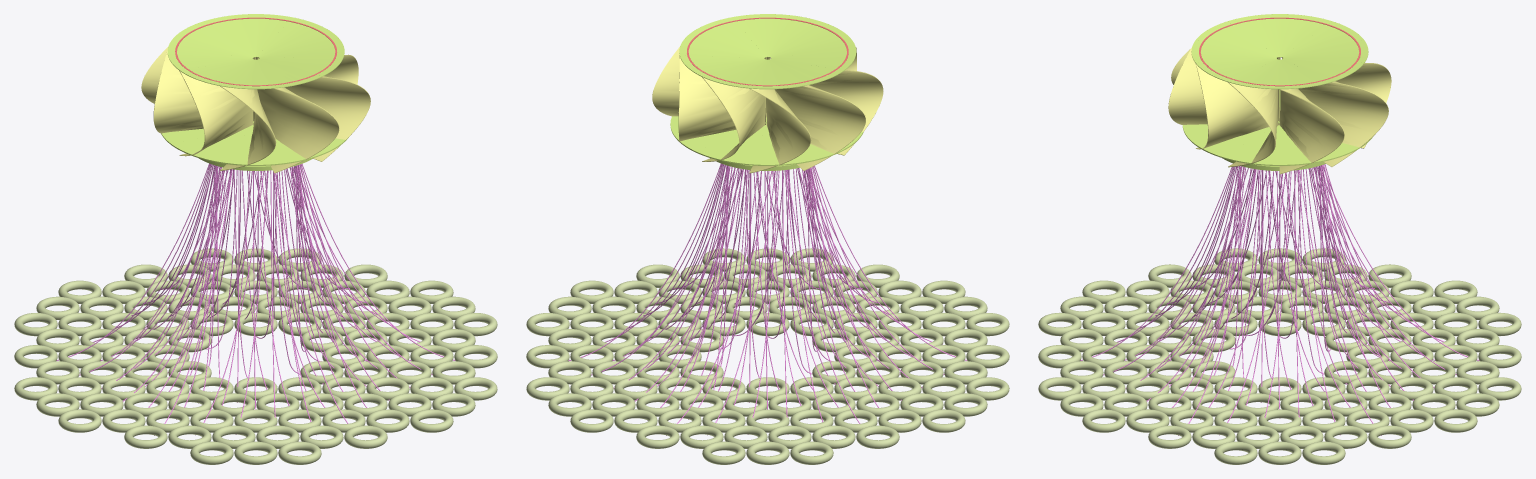
The model's file is fudao.glb.
3 renders of one model, left to right at view 1: azimuth 30°, elevation 25°; view 2: azimuth 150°, elevation 25°; view 3: azimuth 270°, elevation 25°, orthographic.
Bounding box in the file's own units: 3.41 × 2.34 × 3.3.
